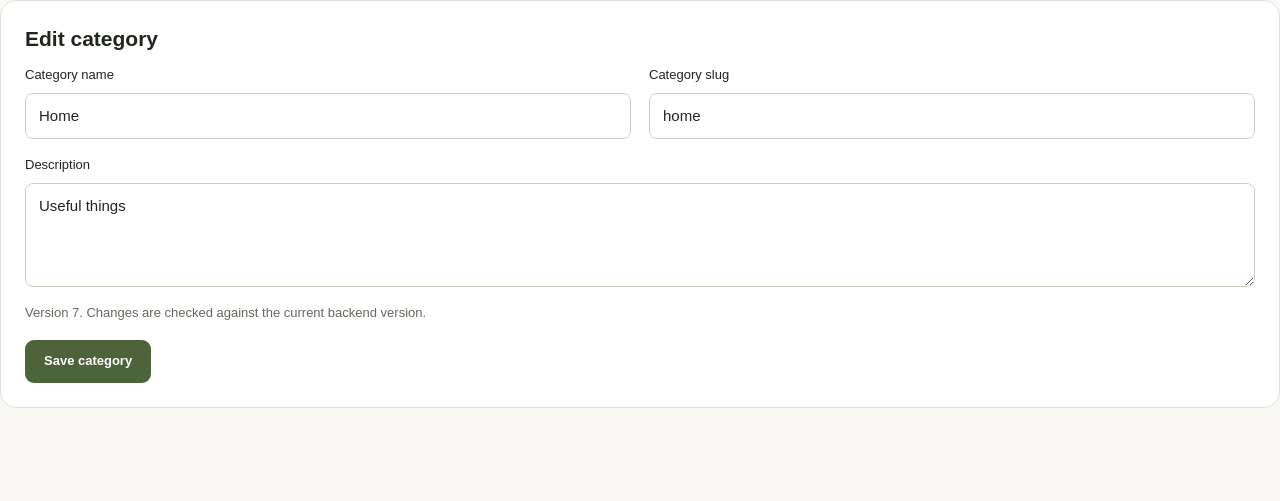
Test: sends the category slug and current version when updating
The image size is (1280, 501).
Replace the text in the field labelled "Category name" with "New home" at (328, 116), box [25,93,631,139]
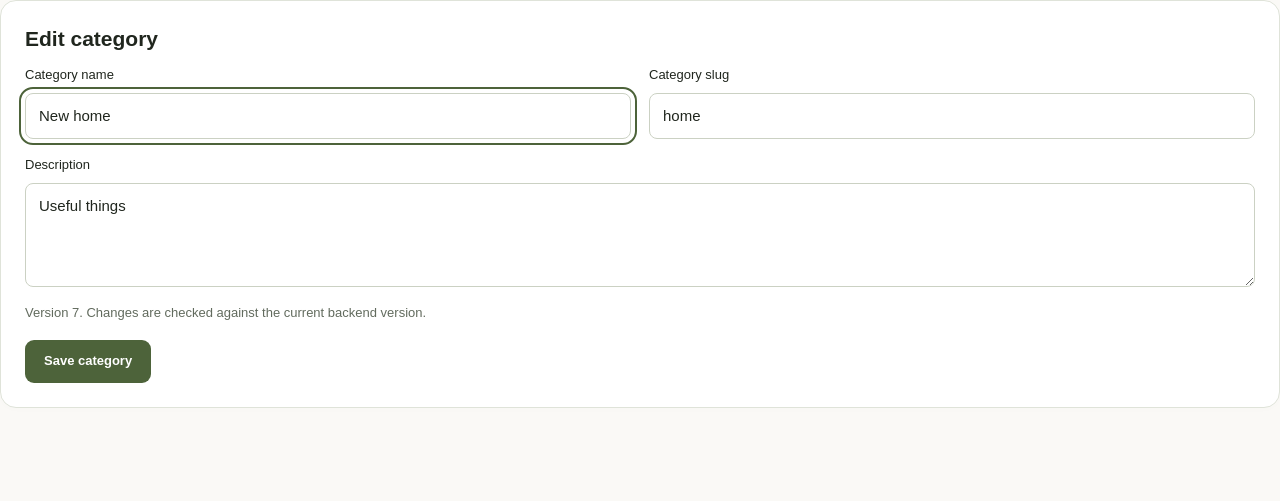
Click the button "Save category".
click(88, 361)  # box [25,340,151,382]
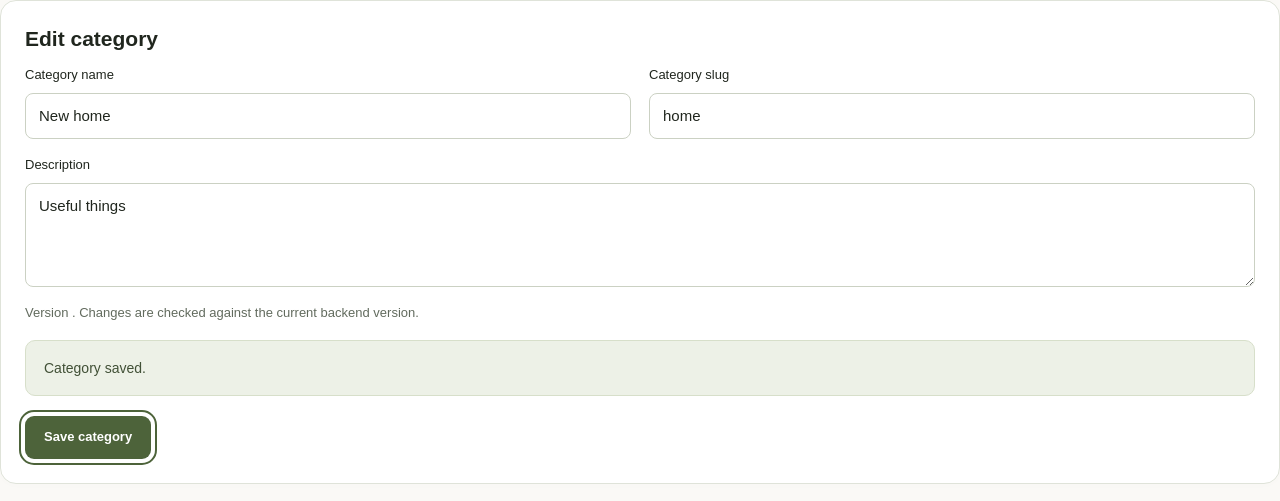
Expected: the text "Category saved." is shown, [25,340,1255,396]
